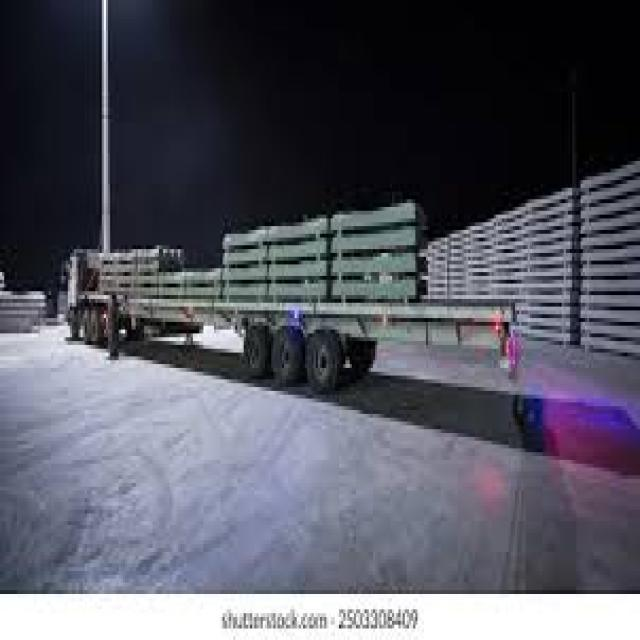uncovered: (68, 217, 510, 388)
